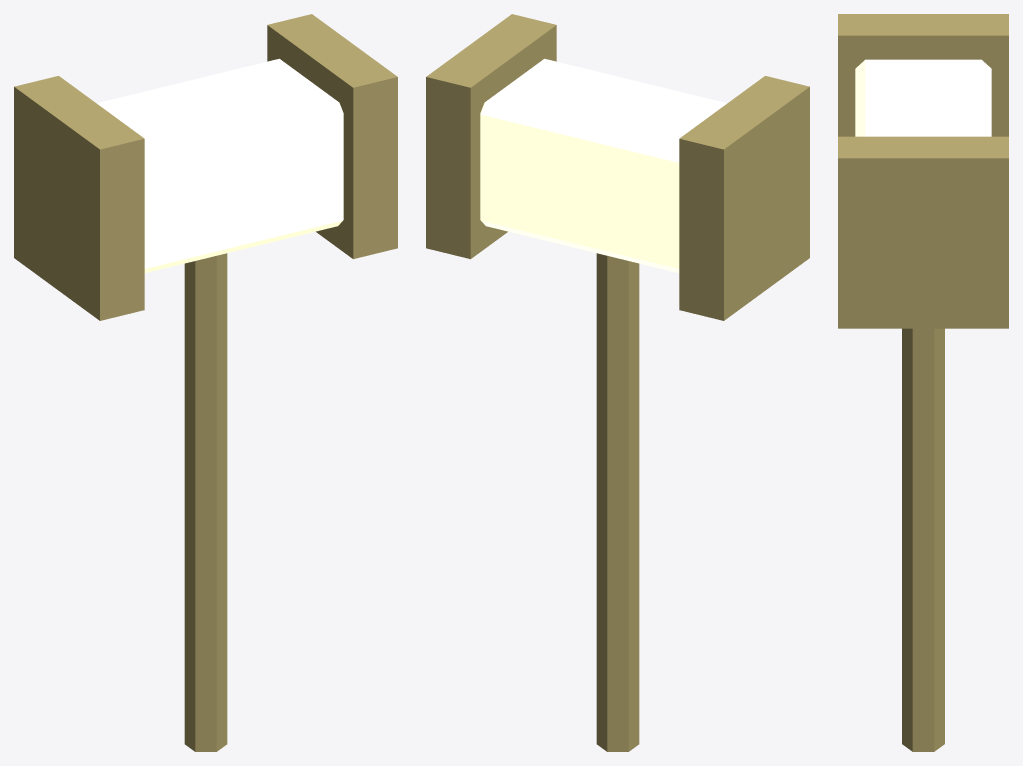
File: dc_abs_hammer.glb
The picture shows the model from 3 angles, left to right: view 1: azimuth 30°, elevation 25°; view 2: azimuth 150°, elevation 25°; view 3: azimuth 270°, elevation 25°; orthographic projection.
Visible parts, largest first — view 1: part.dc_abs_hammer; view 2: part.dc_abs_hammer; view 3: part.dc_abs_hammer.
Part boxes in pixels (x1,y1,x2,y2): part.dc_abs_hammer: (14,14,397,751); part.dc_abs_hammer: (426,14,809,751); part.dc_abs_hammer: (838,14,1008,751).
Size of the model in its own units: 0.4 by 0.85 by 0.2.
